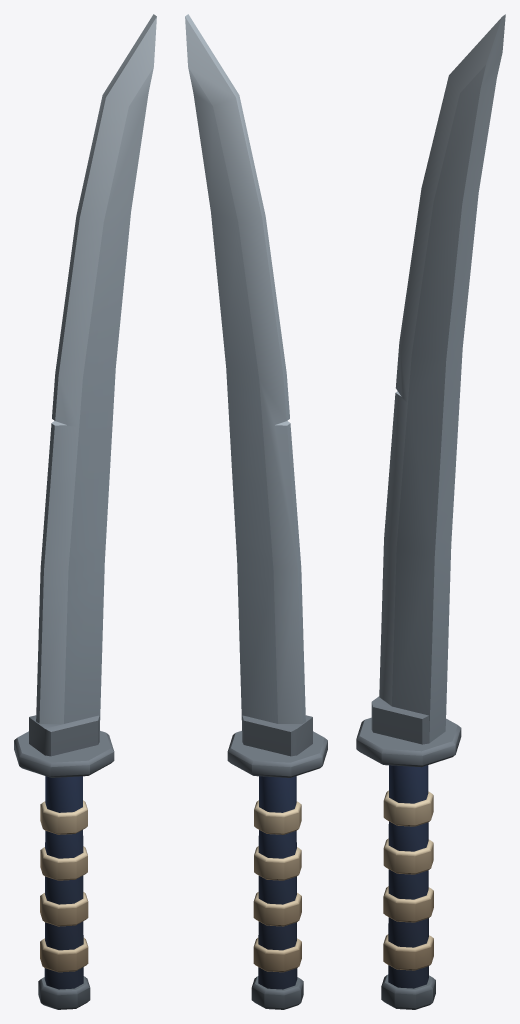
File: greatblade_curved.glb
3 renders of one model, left to right at view 1: azimuth 30°, elevation 25°; view 2: azimuth 150°, elevation 25°; view 3: azimuth 330°, elevation 25°, orthographic. The views are drawn at different scales.
Visible parts, largest first — view 1: Item; view 2: Item; view 3: Item.
Boxes of the visible parts, bbox=[...] form: Item: bbox=[14, 14, 156, 1009]; Item: bbox=[185, 14, 327, 1009]; Item: bbox=[356, 14, 505, 1009].
Size of the model in its own units: 0.3734 by 2.52 by 0.2468.
2 materials, 2 textured.
